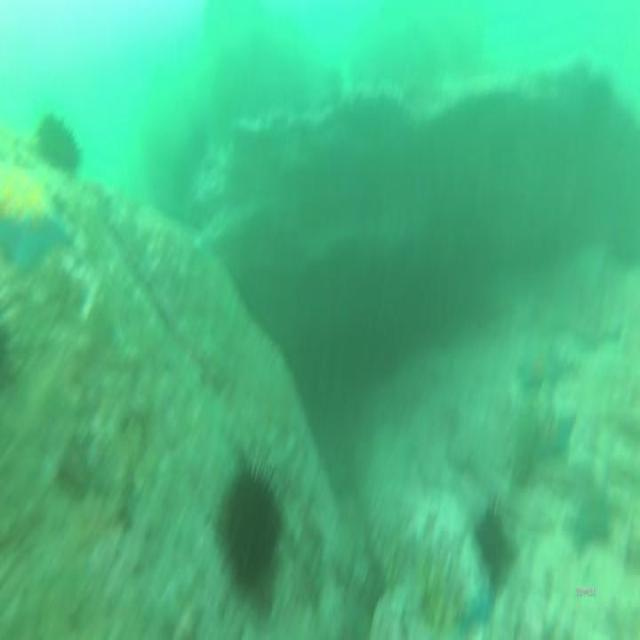echinus: (212, 457, 286, 602), (36, 111, 82, 180), (474, 502, 508, 580)
starfish: (0, 163, 81, 275), (519, 404, 580, 470), (561, 488, 616, 558), (567, 296, 620, 352), (518, 343, 566, 393)
